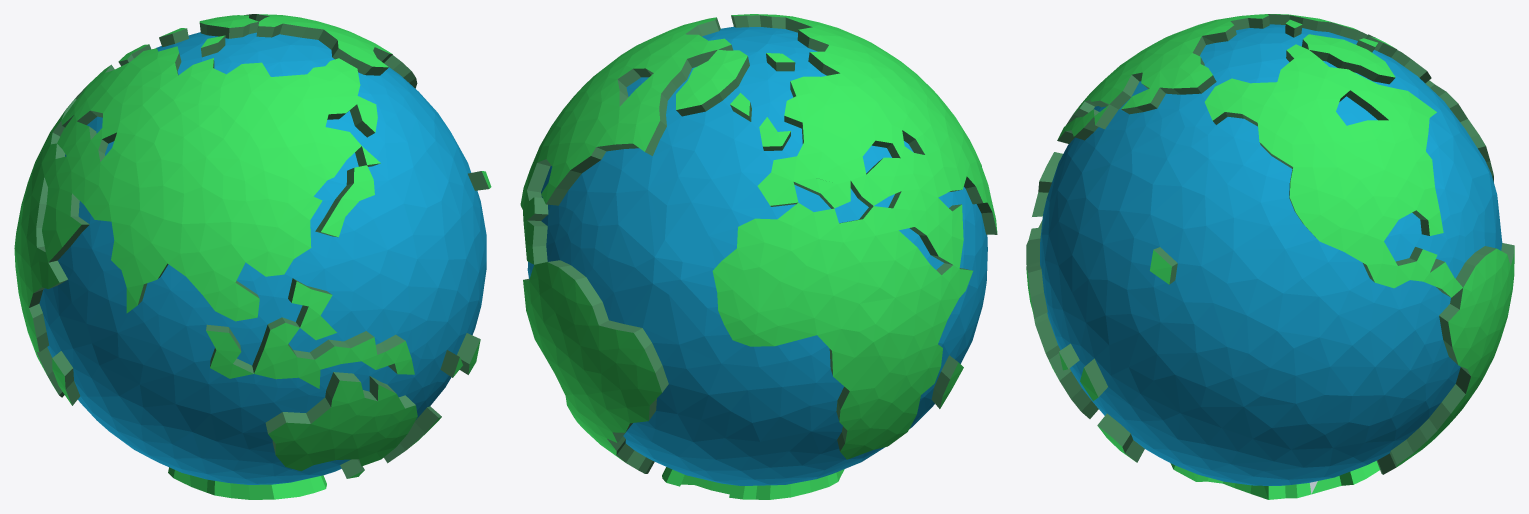
File: Earth.gltf
3 views of the same model, side by side, from view 1: azimuth 30°, elevation 25°; view 2: azimuth 150°, elevation 25°; view 3: azimuth 270°, elevation 25° (orthographic).
Visible parts, largest first — view 1: Sphere; view 2: Sphere; view 3: Sphere.
Part boxes in pixels (<box>): Sphere: <box>14,14,491,499</box>; Sphere: <box>520,14,997,499</box>; Sphere: <box>1026,14,1514,499</box>.
Size of the model in its own units: 2.04 by 2.11 by 2.11.
